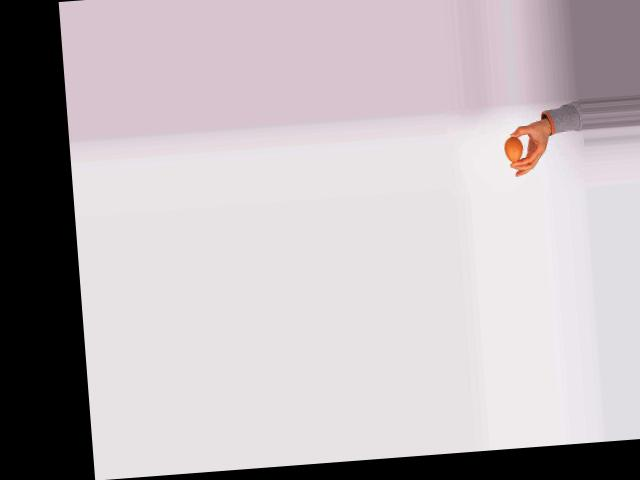egg: (503, 136, 522, 163)
